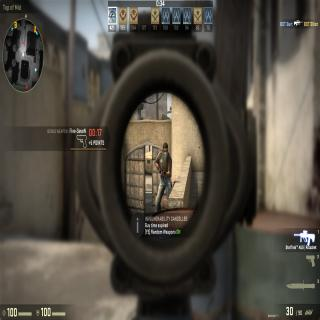T-Body: (154, 140, 172, 215)
T-Head: (162, 141, 169, 161)
